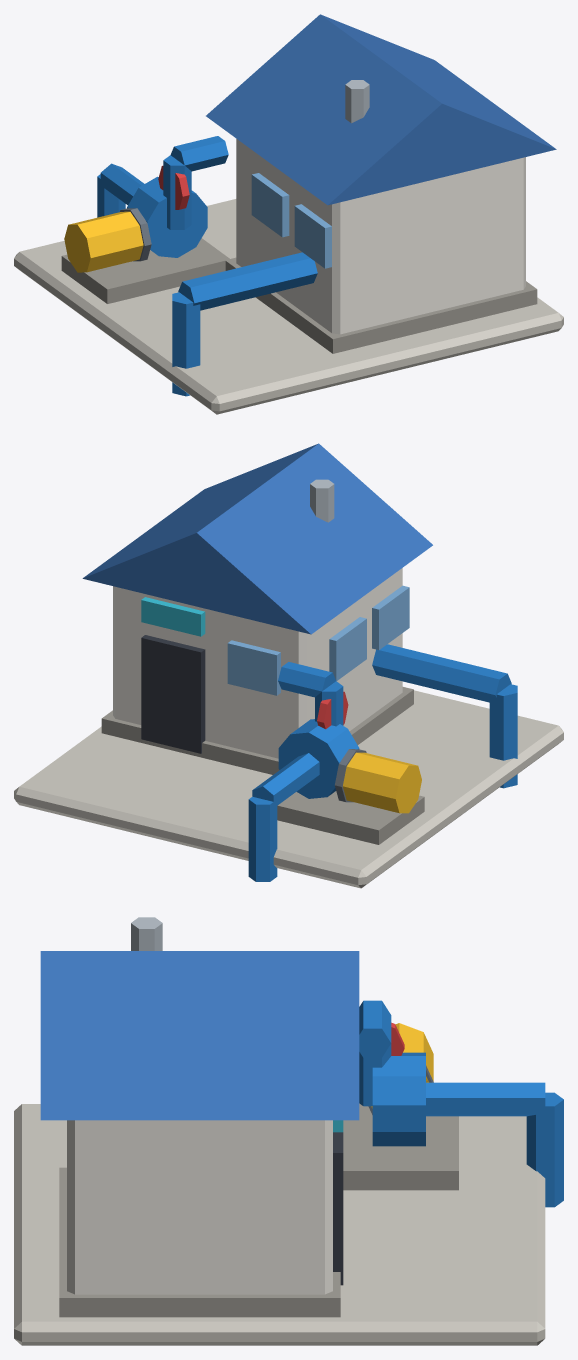
File: water_pump.glb
3 renders of one model, top to bottom at view 1: azimuth 30°, elevation 25°; view 2: azimuth 150°, elevation 25°; view 3: azimuth 270°, elevation 25°, orthographic. The views are drawn at different scales.
Parts seen in each view (by area): view 1: corpo; view 2: corpo; view 3: corpo.
Boxes of the visible parts, box(x1,y1,x2,y2) form: corpo: box(14, 14, 563, 414); corpo: box(14, 443, 563, 888); corpo: box(14, 917, 563, 1345).
Bounding box in the file's own units: 2 × 1.4 × 2.07.
